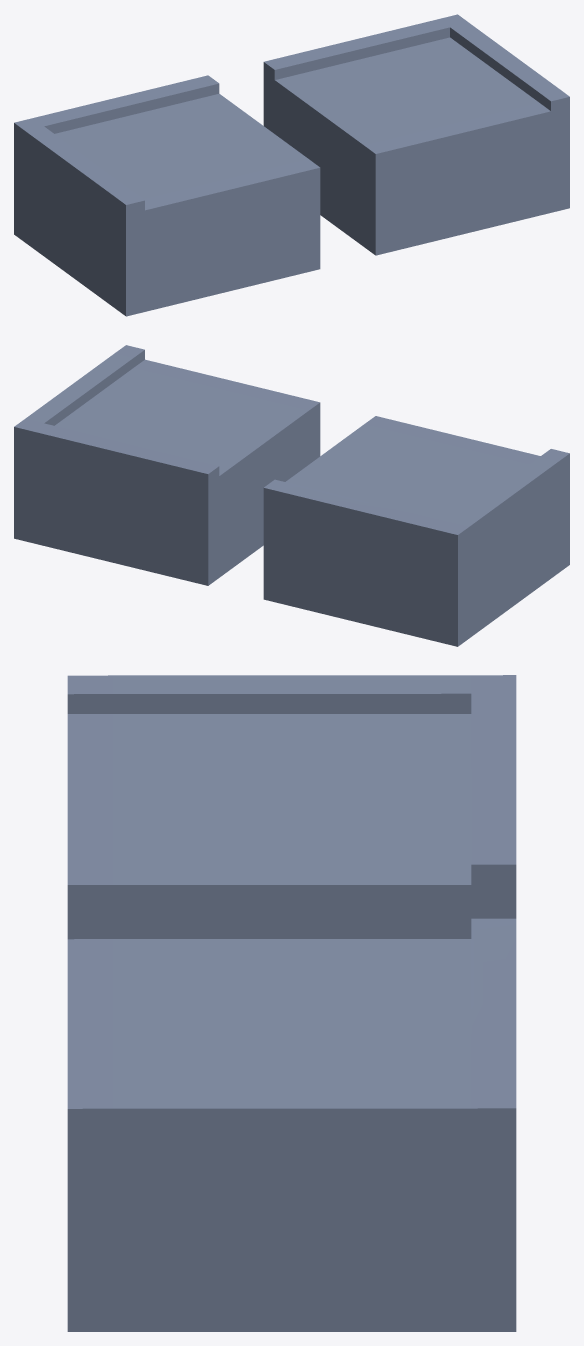
The model's file is CubeyBoys.fbx.
3 renders of one model, top to bottom at view 1: azimuth 30°, elevation 25°; view 2: azimuth 150°, elevation 25°; view 3: azimuth 270°, elevation 25°, orthographic. The views are drawn at different scales.
Parts seen in each view (by area): view 1: Cube.111, Cube.112; view 2: Cube.111, Cube.112; view 3: Cube.112, Cube.111.
Part boxes in pixels (x1,y1,x2,y2): Cube.111: [14, 75, 320, 316]; Cube.112: [263, 14, 569, 255]; Cube.111: [263, 416, 569, 646]; Cube.112: [14, 345, 320, 585]; Cube.112: [67, 918, 516, 1331]; Cube.111: [67, 675, 516, 939].
Bounding box in the file's own units: 457 × 110 × 200.
